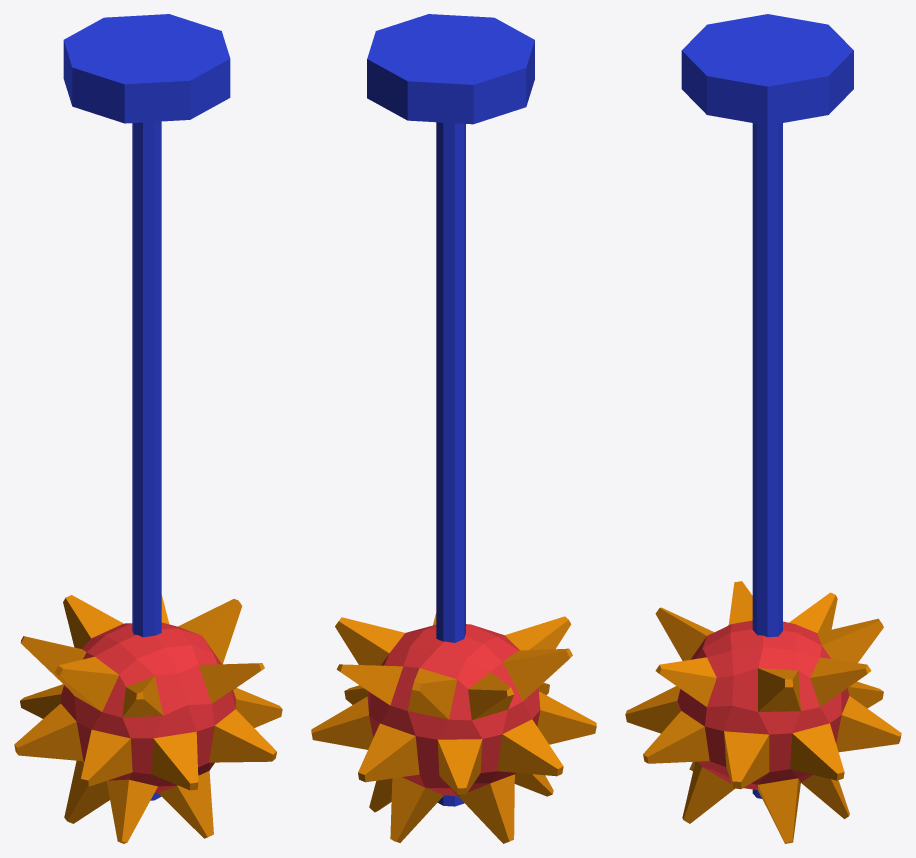
Rendered from engel13.fbx.
3 views of the same model, side by side, from view 1: azimuth 30°, elevation 25°; view 2: azimuth 150°, elevation 25°; view 3: azimuth 270°, elevation 25° (orthographic).
Visible parts, largest first — view 1: Sphere.004, Sphere.005; view 2: Sphere.004, Sphere.005; view 3: Sphere.004, Sphere.005.
Part boxes in pixels (x1=…): Sphere.004: x1=14, y1=121, x2=282, y2=843; Sphere.005: x1=63, y1=14, x2=230, y2=123; Sphere.004: x1=311, y1=122, x2=596, y2=843; Sphere.005: x1=367, y1=14, x2=534, y2=124; Sphere.004: x1=625, y1=123, x2=901, y2=843; Sphere.005: x1=681, y1=14, x2=853, y2=125.
Bounding box in the file's own units: 188 × 573 × 188.
